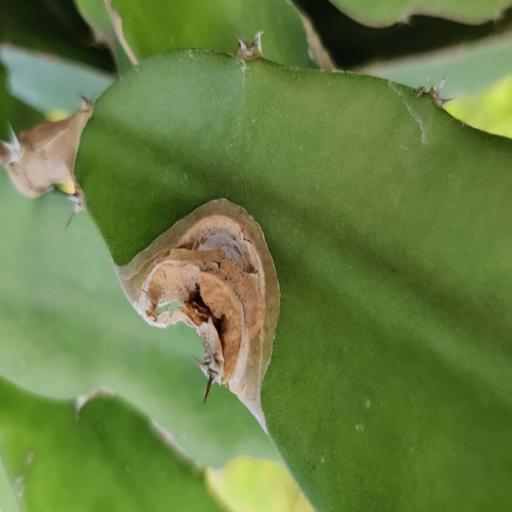stemcanker: (315, 449, 334, 472), (361, 394, 378, 418), (352, 418, 370, 438), (24, 446, 38, 470)
